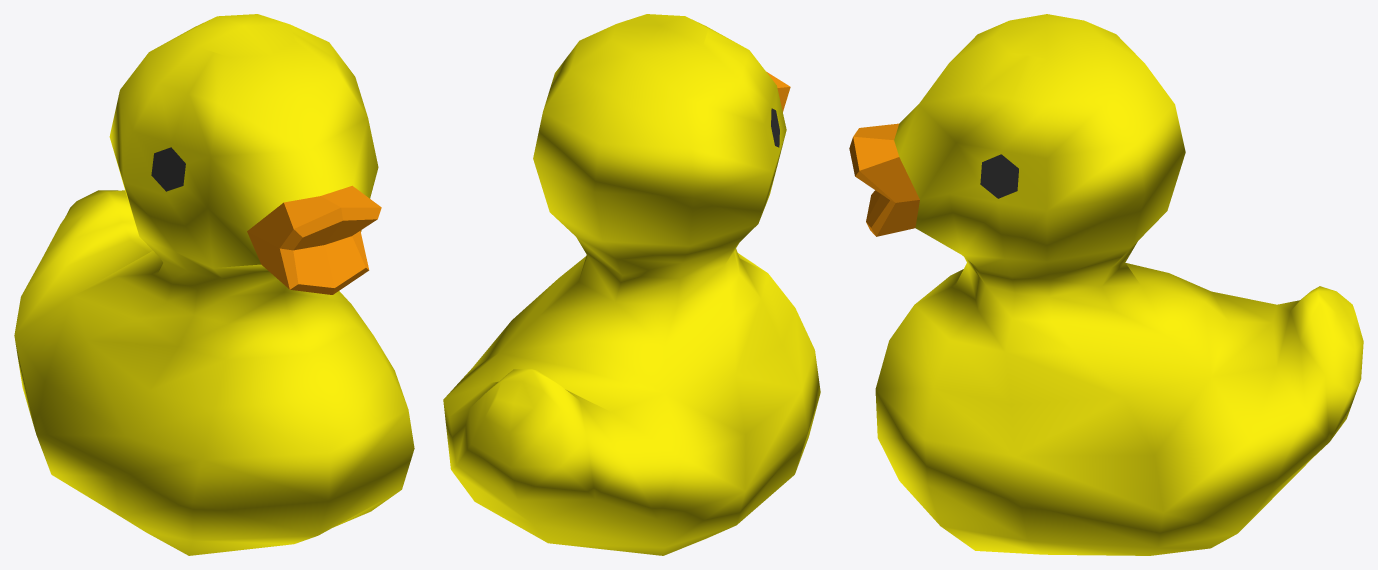
The model's file is Duck.fbx.
3 views of the same model, side by side, from view 1: azimuth 30°, elevation 25°; view 2: azimuth 150°, elevation 25°; view 3: azimuth 270°, elevation 25° (orthographic). The views are drawn at different scales.
Visible parts, largest first — view 1: Duck; view 2: Duck; view 3: Duck.
Boxes of the visible parts, x1=… form: Duck: x1=14, y1=14, x2=414, y2=555; Duck: x1=443, y1=14, x2=820, y2=555; Duck: x1=849, y1=14, x2=1363, y2=555.
Size of the model in its own units: 77.99 by 120 by 117.
